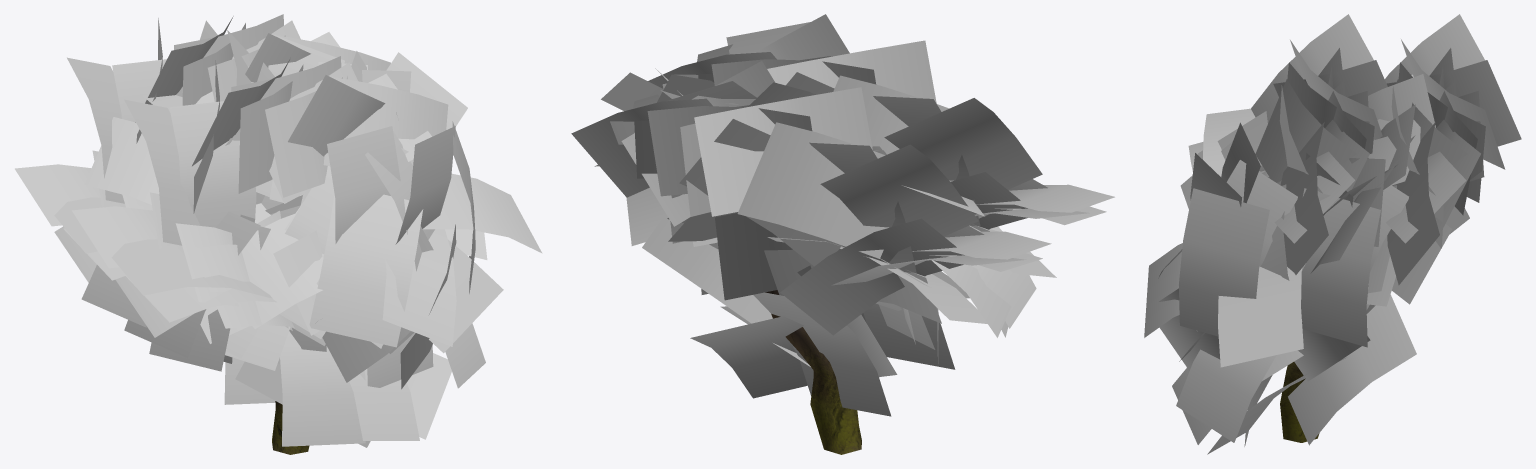
File: md_bush_01_v4_test.fbx
3 views of the same model, side by side, from view 1: azimuth 30°, elevation 25°; view 2: azimuth 150°, elevation 25°; view 3: azimuth 270°, elevation 25° (orthographic). The views are drawn at different scales.
Parts seen in each view (by area): view 1: pPlane115; view 2: pPlane115; view 3: pPlane115.
Boxes of the visible parts, bbox=[...] form: pPlane115: bbox=[15, 14, 542, 454]; pPlane115: bbox=[571, 14, 1114, 454]; pPlane115: bbox=[1144, 14, 1521, 454].
Bounding box in the file's own units: 68.05 × 57.61 × 54.13.
